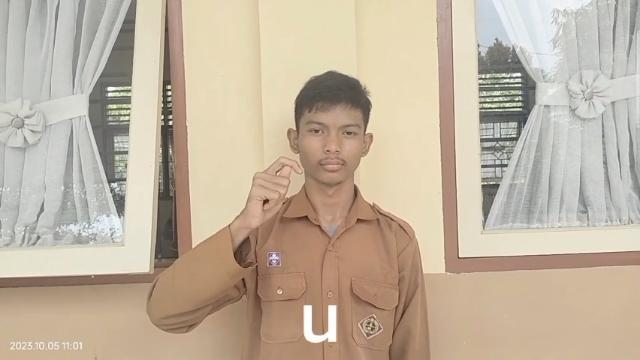T: (244, 156, 302, 230)
